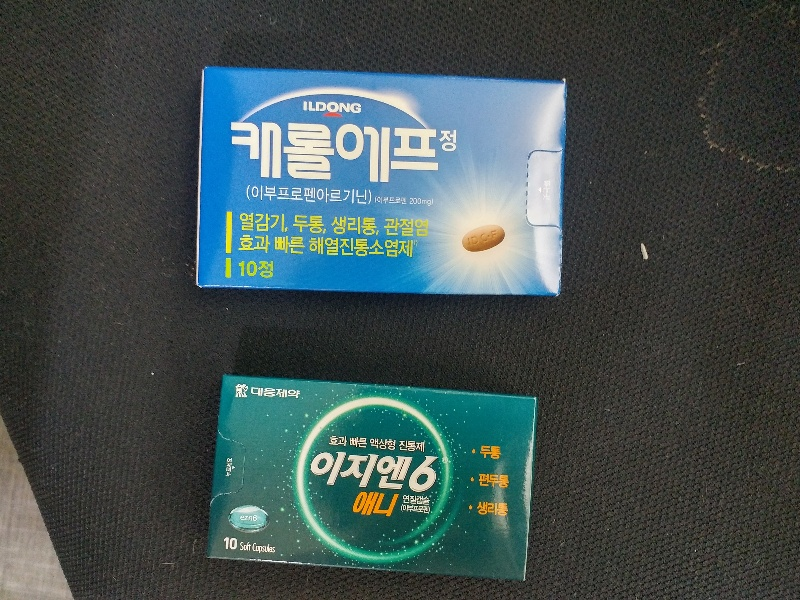carolF: (193, 67, 564, 295)
ezn: (207, 374, 539, 581)
